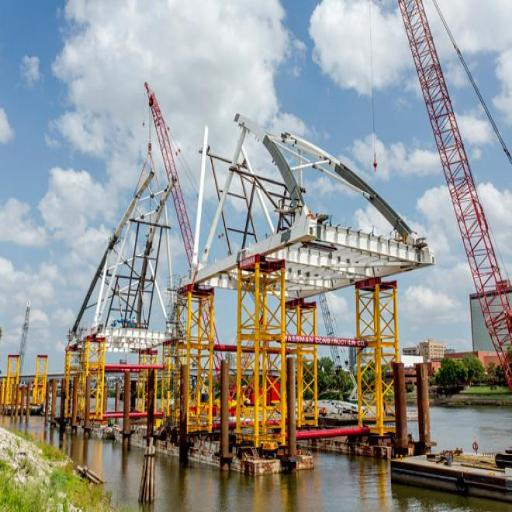segmentation: (394, 361, 410, 454), (415, 363, 432, 444), (220, 359, 232, 472), (287, 357, 296, 465), (179, 366, 189, 439), (123, 371, 130, 449), (149, 367, 155, 442), (71, 376, 77, 432), (51, 381, 57, 424), (26, 381, 29, 420)
